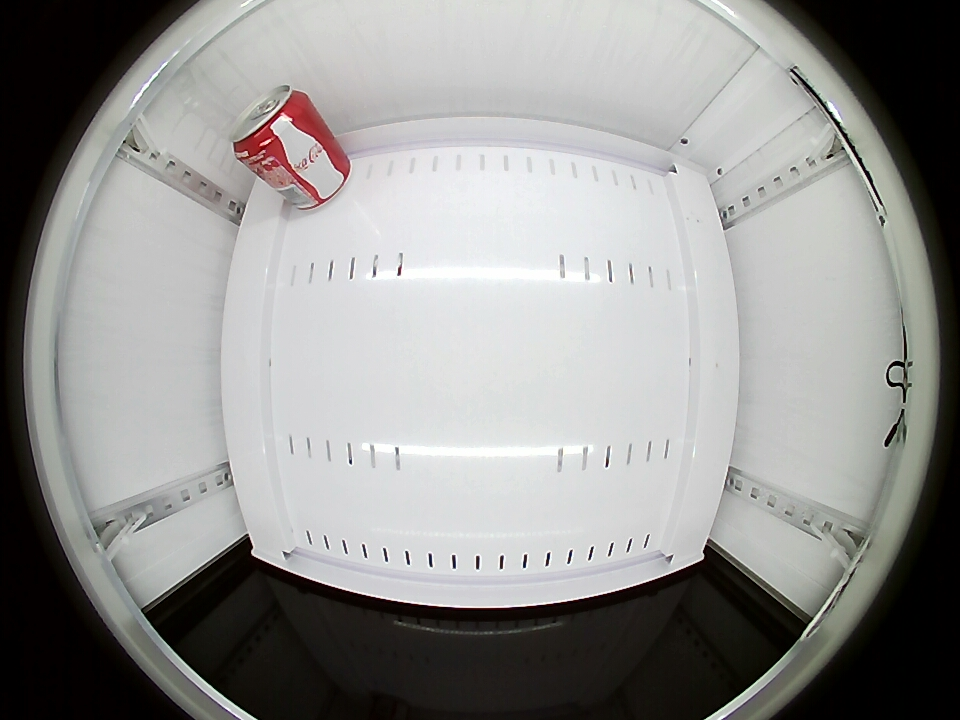kele: (230, 85, 310, 165)
